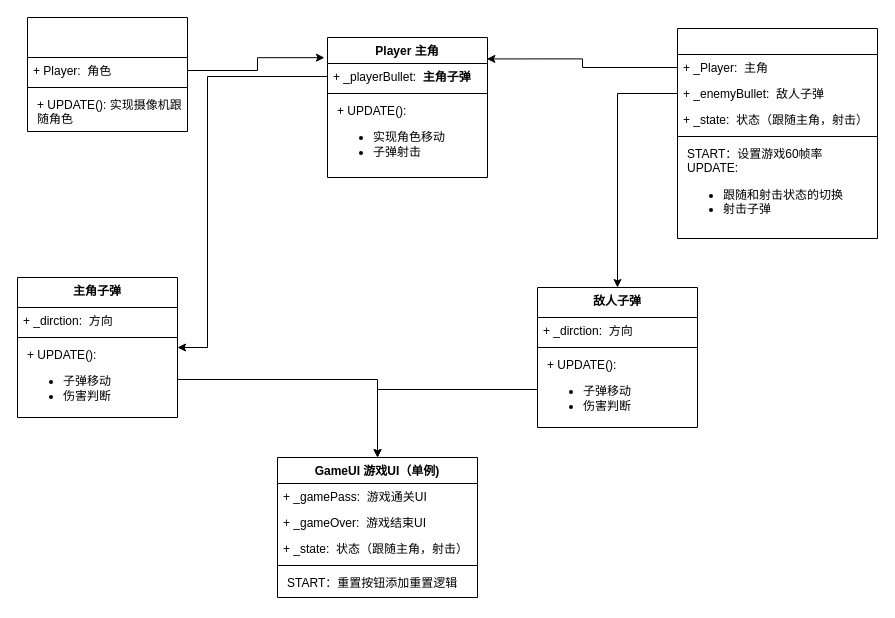
Image size: 895x618. Some labels were removed from this diagram. The box of each missing label's shape, as (x1, y1, x2, y2) in pixels:
CameraController 摄像机控制: (26, 16, 188, 132)
Enemy 敌人: (676, 28, 878, 238)
